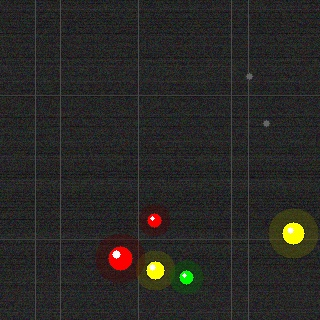green_normal: (177, 268, 195, 286)
red_fault: (106, 244, 134, 272), (145, 211, 163, 229)
yellow_warning: (280, 220, 306, 246), (144, 259, 166, 281)
